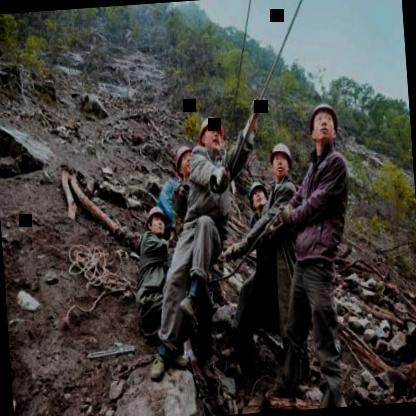helmet: (306, 92, 342, 156), (191, 110, 228, 157), (268, 138, 296, 183), (245, 178, 274, 214), (142, 204, 170, 238), (172, 140, 196, 178)
